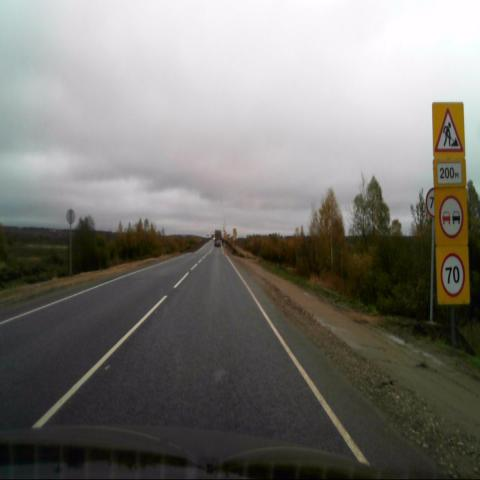1_25: (432, 101, 465, 158)
8_1_1: (433, 160, 466, 187)
